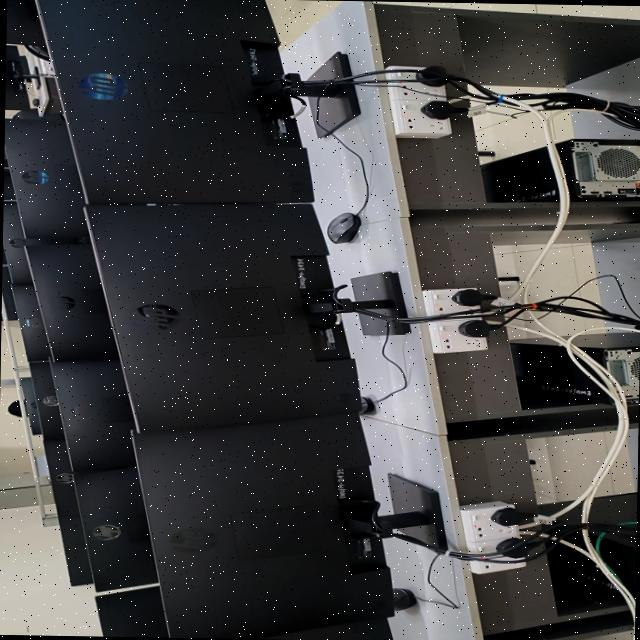Cpu: (510, 343, 610, 404), (587, 492, 637, 602), (555, 138, 640, 201), (481, 147, 558, 202), (579, 333, 640, 398), (575, 558, 619, 598)
Monitor: (88, 203, 356, 433), (132, 413, 390, 640), (35, 0, 311, 203), (26, 243, 116, 361), (72, 467, 156, 590), (3, 119, 87, 239), (50, 358, 133, 469), (7, 362, 62, 439), (94, 586, 167, 637), (10, 283, 49, 362), (42, 440, 77, 516), (30, 362, 63, 440), (1, 202, 30, 284), (58, 515, 91, 586), (5, 0, 43, 45), (4, 46, 27, 110)
Mouse: (326, 212, 359, 243)
